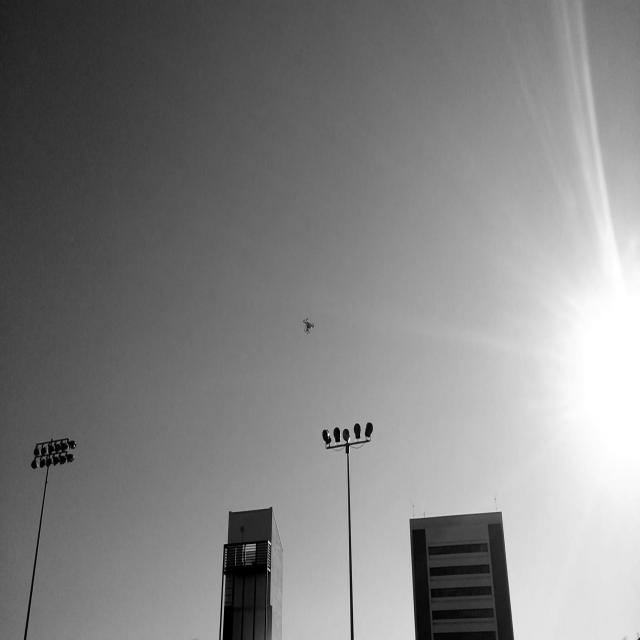drone: (298, 311, 317, 338)
